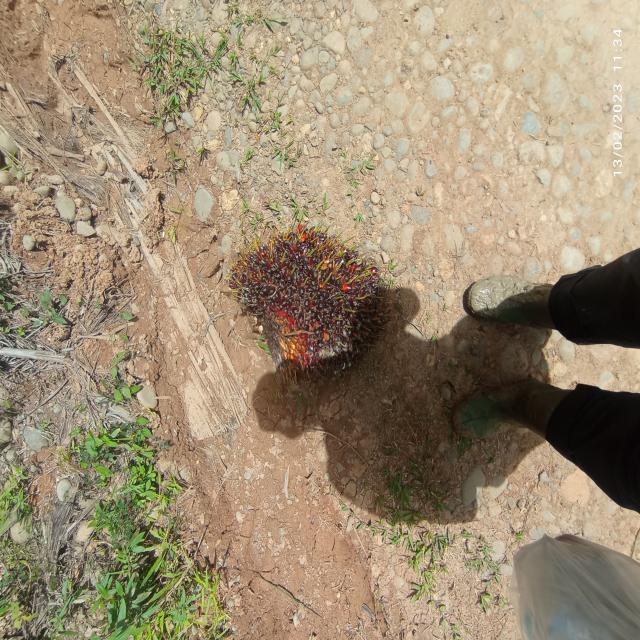fraksi 1: (211, 198, 407, 416)
